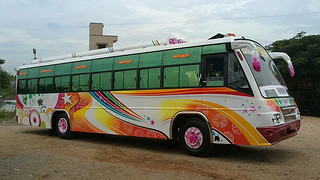bus: (15, 35, 300, 156)
